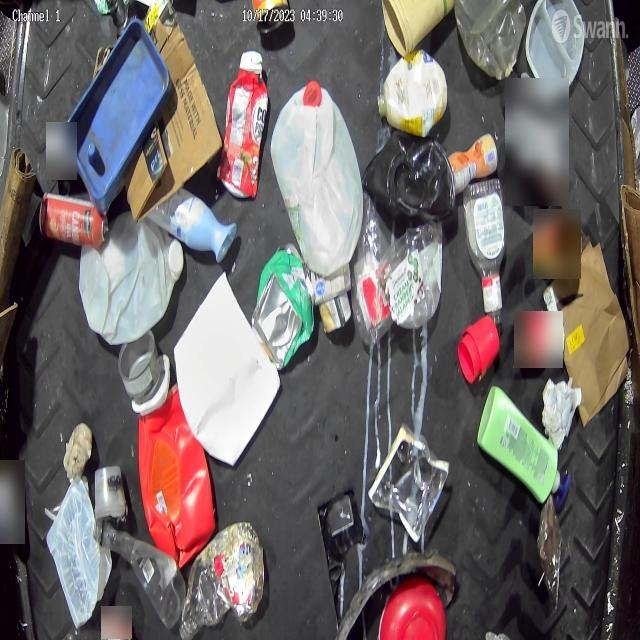milk_jug: (271, 76, 362, 276), (80, 214, 186, 348)
non_white_jug: (138, 389, 218, 570), (37, 192, 110, 248)
plastic_bottle: (178, 519, 266, 640), (94, 520, 183, 630), (463, 178, 506, 312), (353, 206, 393, 348)
